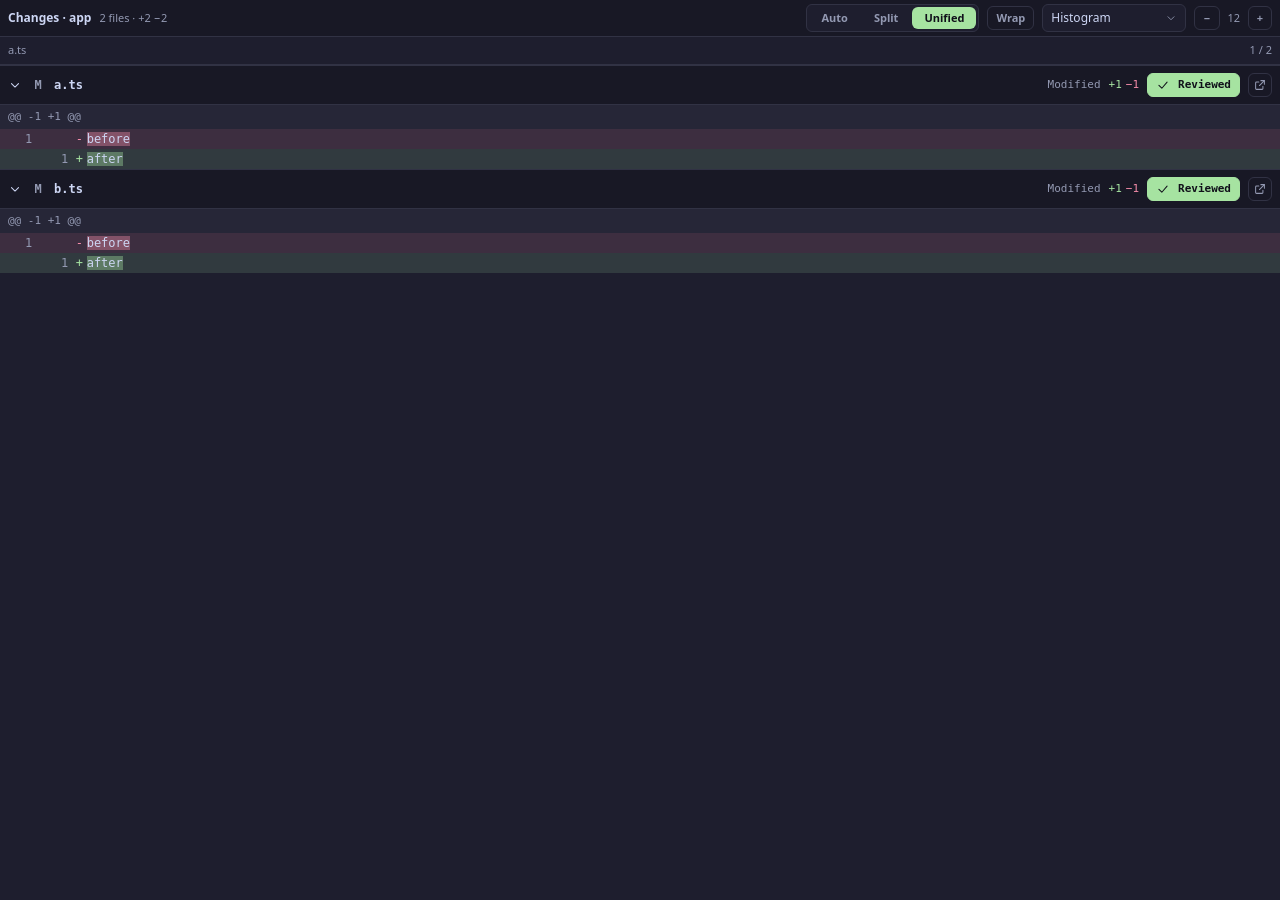
Undo › says the index changed since, and that nothing was undone, when another window staged
Check: the list with test id "review-list" is shown, box [0, 65, 1279, 273]
What coordinates should you click on to do the following:
click the 1st button with test id "review-file-reviewed"
I would click on:
 (1194, 85)
Its box is [1147, 73, 1240, 97].
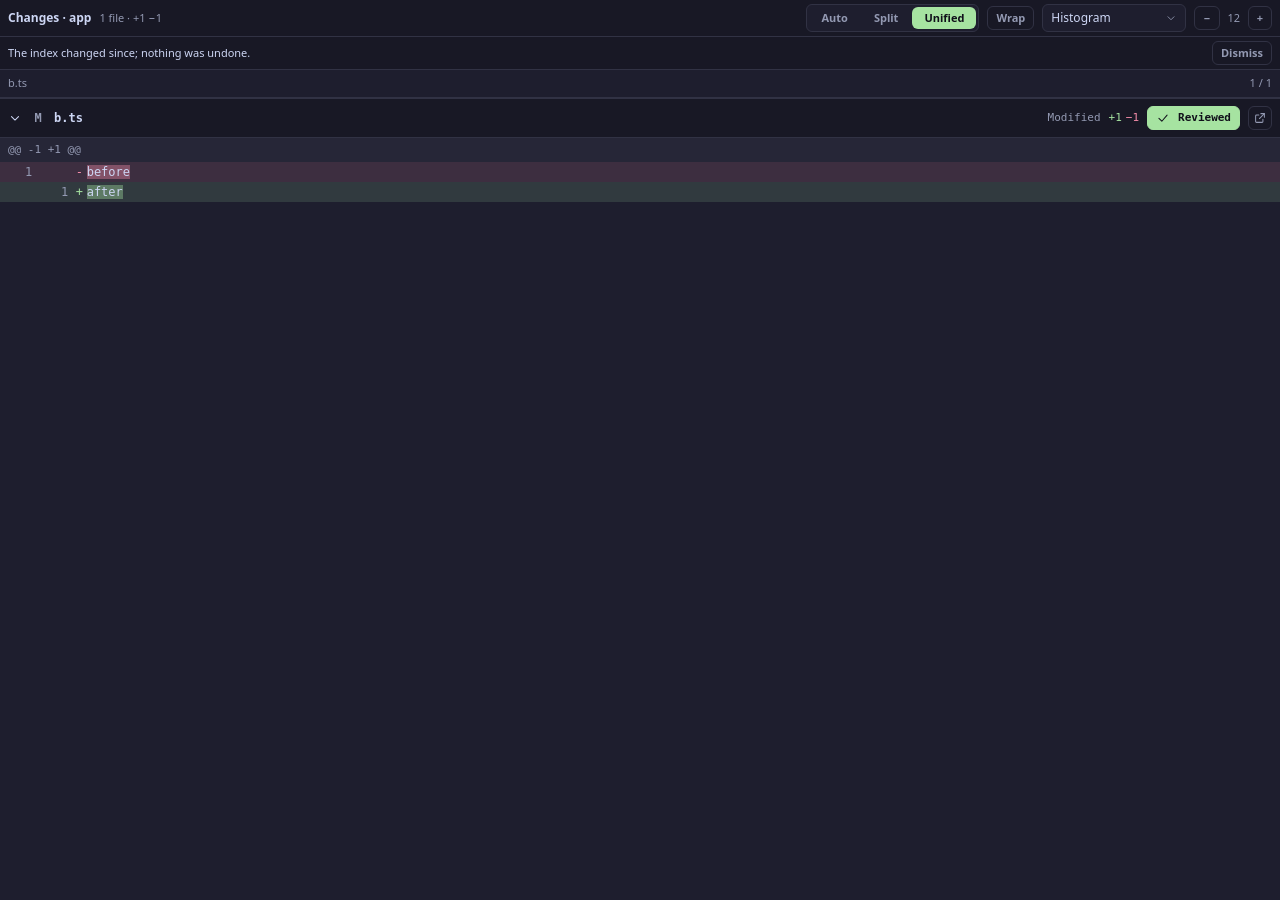
Check: the message with test id "review-notice" shows "The index changed since; nothing was undone.", box [8, 45, 250, 60]
Check: the text "The index changed since; nothing was undone." is shown, box [8, 45, 250, 60]
